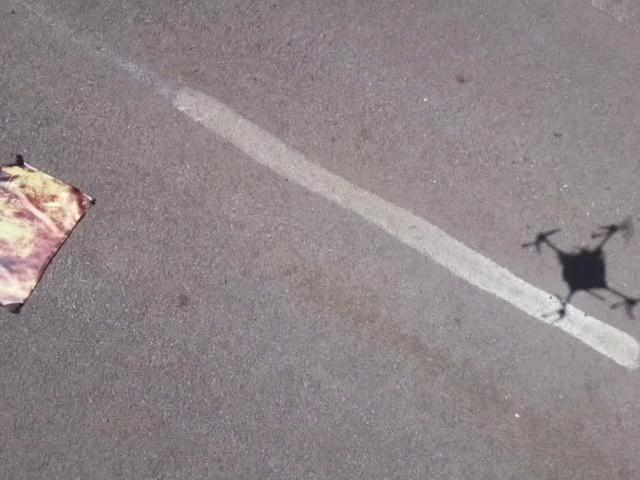fire-poster: (0, 152, 97, 315)
